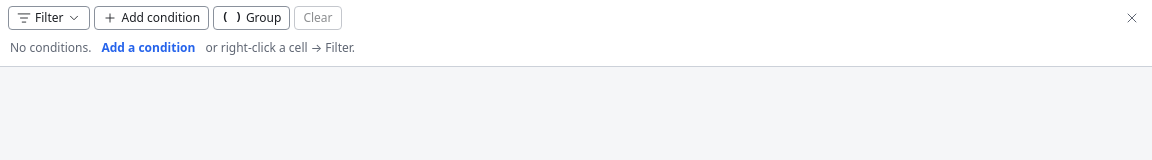
Test case: FilterBar drafts and the focused column (design-16) › an empty condition is a draft: muted hint, and the "applied" count excludes it
The image size is (1152, 160).
Click the button "Add condition": (152, 18) left=94, top=6, right=209, bottom=30
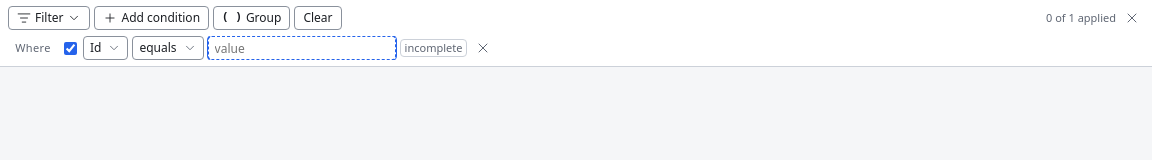
Now the text "incomplete" is shown, box left=400, top=39, right=467, bottom=57
Now the text "0 of 1 applied" is shown, box left=1046, top=10, right=1116, bottom=26
